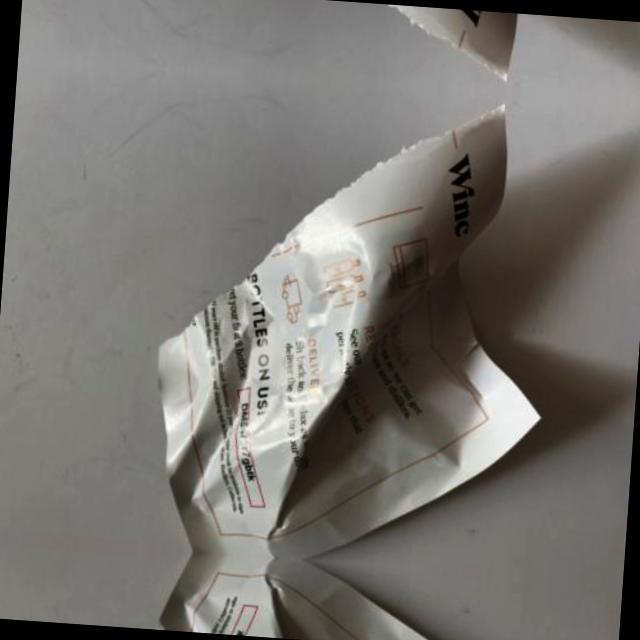paper: (120, 91, 564, 576), (114, 545, 533, 640), (155, 0, 572, 73)
